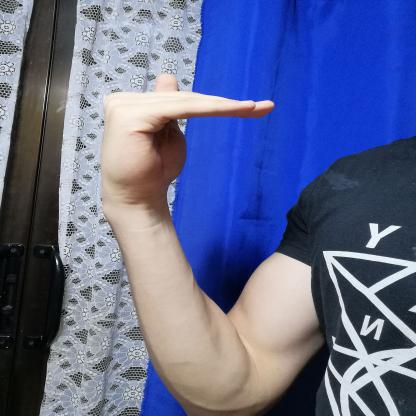KHAA: (85, 61, 296, 218)
